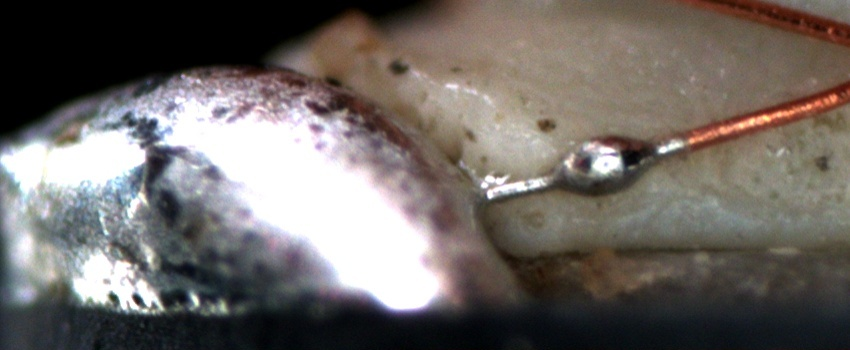TB: (550, 130, 664, 199)
TS: (488, 135, 686, 205)
TTCW: (483, 114, 740, 203)
